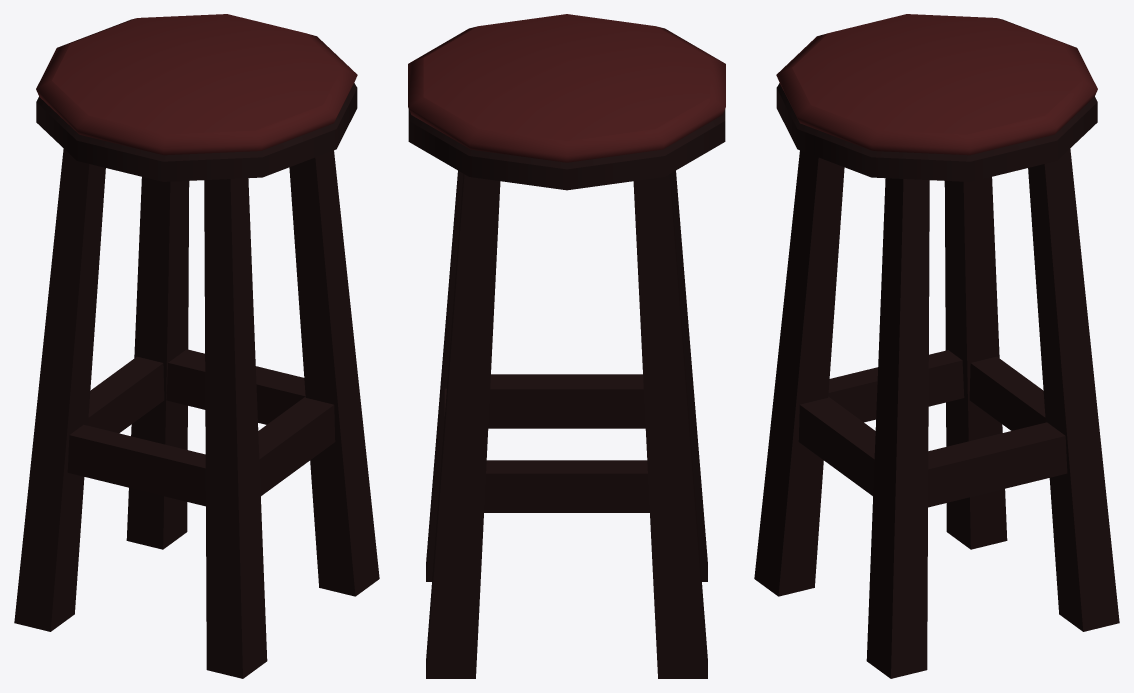
File: Stool.FBX
3 renders of one model, left to right at view 1: azimuth 30°, elevation 25°; view 2: azimuth 150°, elevation 25°; view 3: azimuth 270°, elevation 25°, orthographic. The views are drawn at different scales.
Parts seen in each view (by area): view 1: Stool; view 2: Stool; view 3: Stool.
Part boxes in pixels (x1,y1,x2,y2): Stool: [14, 14, 379, 678]; Stool: [408, 14, 725, 678]; Stool: [754, 14, 1119, 678].
Bounding box in the file's own units: 9.03 × 14.68 × 8.95.
Materials: 1 (1 with a texture image).
